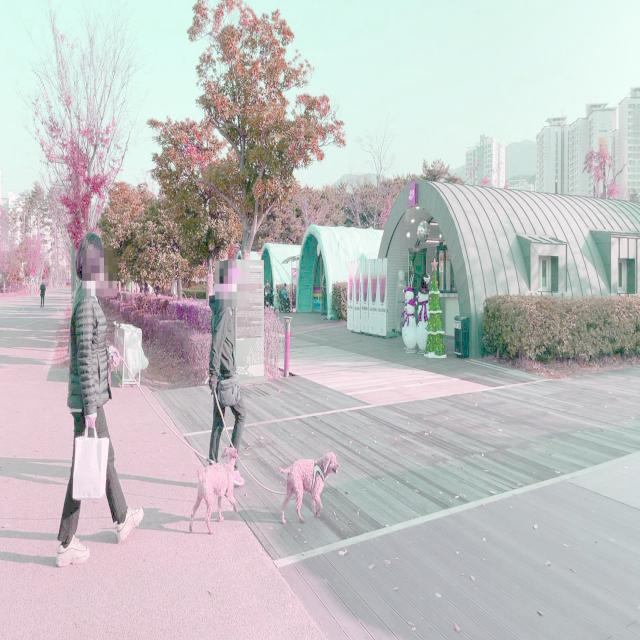Leashed_Dog: (99, 341, 239, 535), (230, 432, 342, 526)
